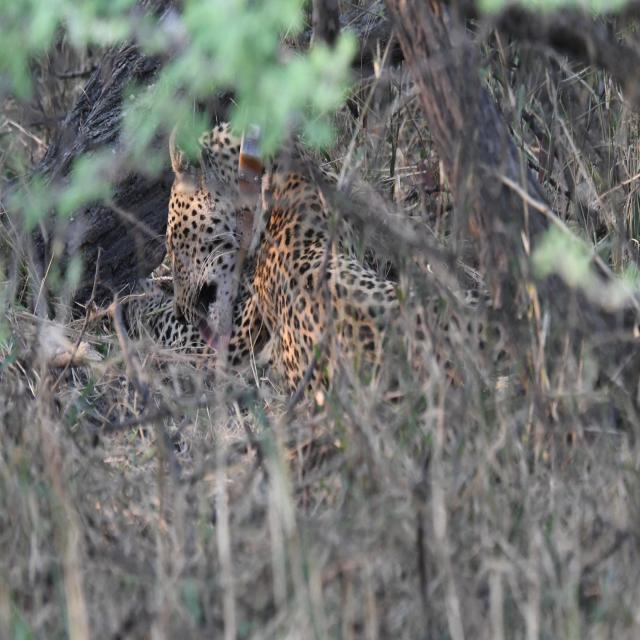Leopard: (142, 113, 514, 399)
